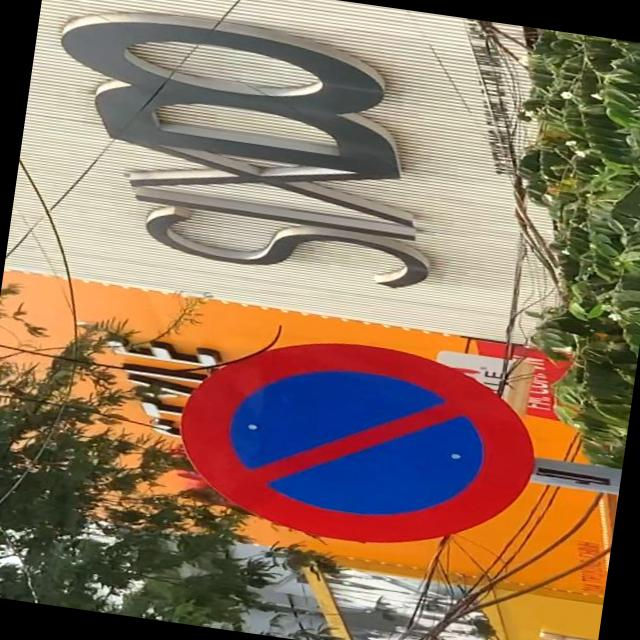P-131a: (167, 322, 547, 564)
